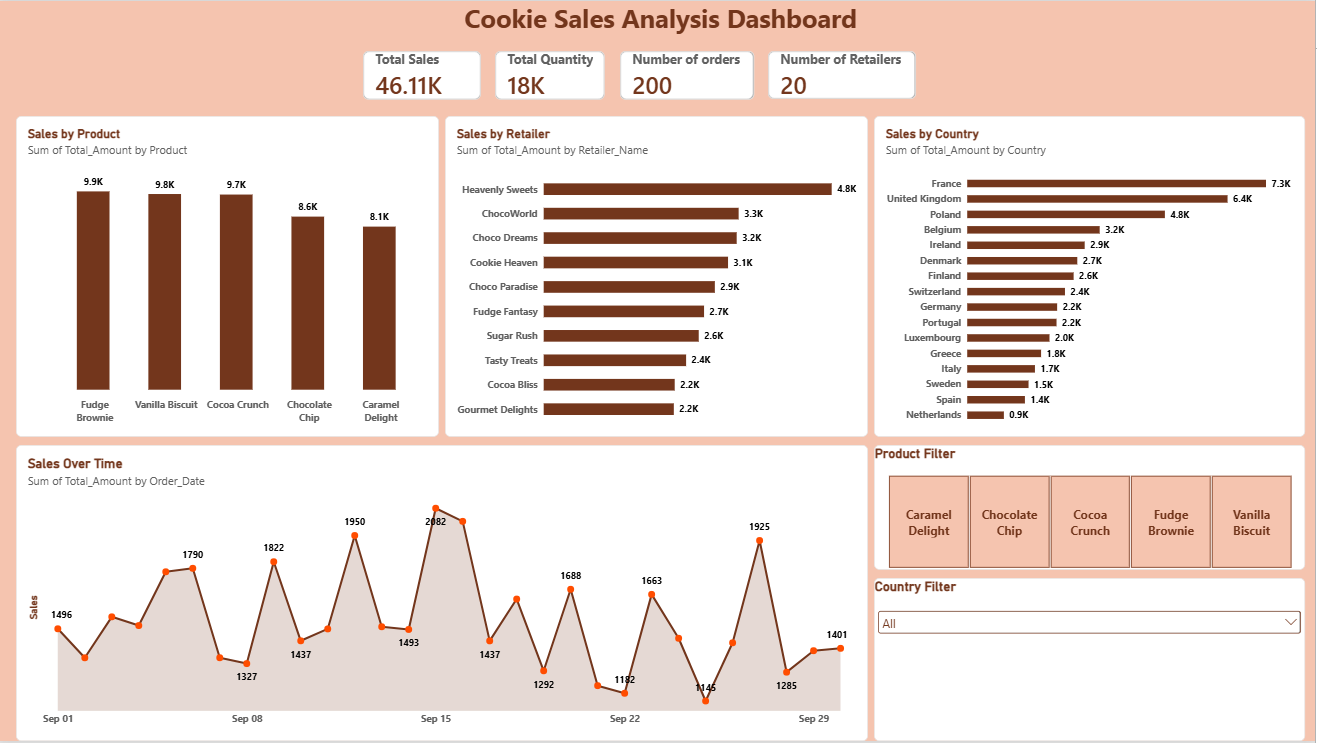

The dashboard page shown, as its layout file describes it:
{"tool":"powerbi","page":{"name":"Page 1","canvas":[1920,1080],"ordinal":0},"visuals":[{"type":"textbox","box":[10.7,0,1910.1,57.1],"z":0},{"type":"cardVisual","fields":{"Data":["Sum(Orders.Total_Amount)"]},"box":[531.1,72.9,172.2,71.5],"z":1},{"type":"cardVisual","fields":{"Data":["Sum(Orders.Quantity)"]},"box":[724.1,72.9,160.5,71.5],"z":2},{"type":"cardVisual","fields":{"Data":["CountNonNull(Orders.Order_ID)"]},"box":[905.5,72.9,195.5,71.5],"z":3},{"type":"cardVisual","fields":{"Data":["Count(Retailers.id)"]},"box":[1121.9,72.9,215.9,70],"z":4},{"type":"clusteredColumnChart","title":"Sales by Product","fields":{"Category":["Orders.Product"],"Y":["Sum(Orders.Total_Amount)"]},"box":[24.8,167.8,617.1,468.3],"z":5},{"type":"clusteredBarChart","title":"Sales by Country","fields":{"Category":["Retailers.Country"],"Y":["Sum(Orders.Total_Amount)"]},"box":[1276.6,167.8,628.8,468.3],"z":6},{"type":"lineChart","title":"Sales Over Time","fields":{"Category":["Orders.Order_Date"],"Y":["Sum(Orders.Total_Amount)"]},"box":[24.8,647.8,1243,431.9],"z":7},{"type":"slicer","title":"Product Filter","fields":{"Values":["Orders.Product"]},"box":[1276.6,647.8,628.8,182.4],"z":9},{"type":"slicer","title":"Country Filter","fields":{"Values":["Retailers.Country"]},"box":[1276.6,841.8,628.8,237.8],"z":10},{"type":"clusteredBarChart","title":"Sales by Retailer","fields":{"Category":["Retailers.Retailer_Name"],"Y":["Sum(Orders.Total_Amount)"]},"box":[650.7,167.8,617.1,468.3],"z":11}]}

Visuals, with their boxes in screenshot pixels (x1, y1, x2, y2), scaled from the page's 1920x1080 canvas onto the 1317x743 screenshot:
textbox: bbox(7, 0, 1316, 39)
cardVisual - Sum(Orders.Total_Amount): bbox(364, 50, 482, 99)
cardVisual - Sum(Orders.Quantity): bbox(497, 50, 607, 99)
cardVisual - CountNonNull(Orders.Order_ID): bbox(621, 50, 755, 99)
cardVisual - Count(Retailers.id): bbox(770, 50, 918, 98)
"Sales by Product" clusteredColumnChart: bbox(17, 115, 440, 438)
"Sales by Country" clusteredBarChart: bbox(876, 115, 1307, 438)
"Sales Over Time" lineChart: bbox(17, 446, 870, 742)
"Product Filter" slicer: bbox(876, 446, 1307, 571)
"Country Filter" slicer: bbox(876, 579, 1307, 742)
"Sales by Retailer" clusteredBarChart: bbox(446, 115, 870, 438)
